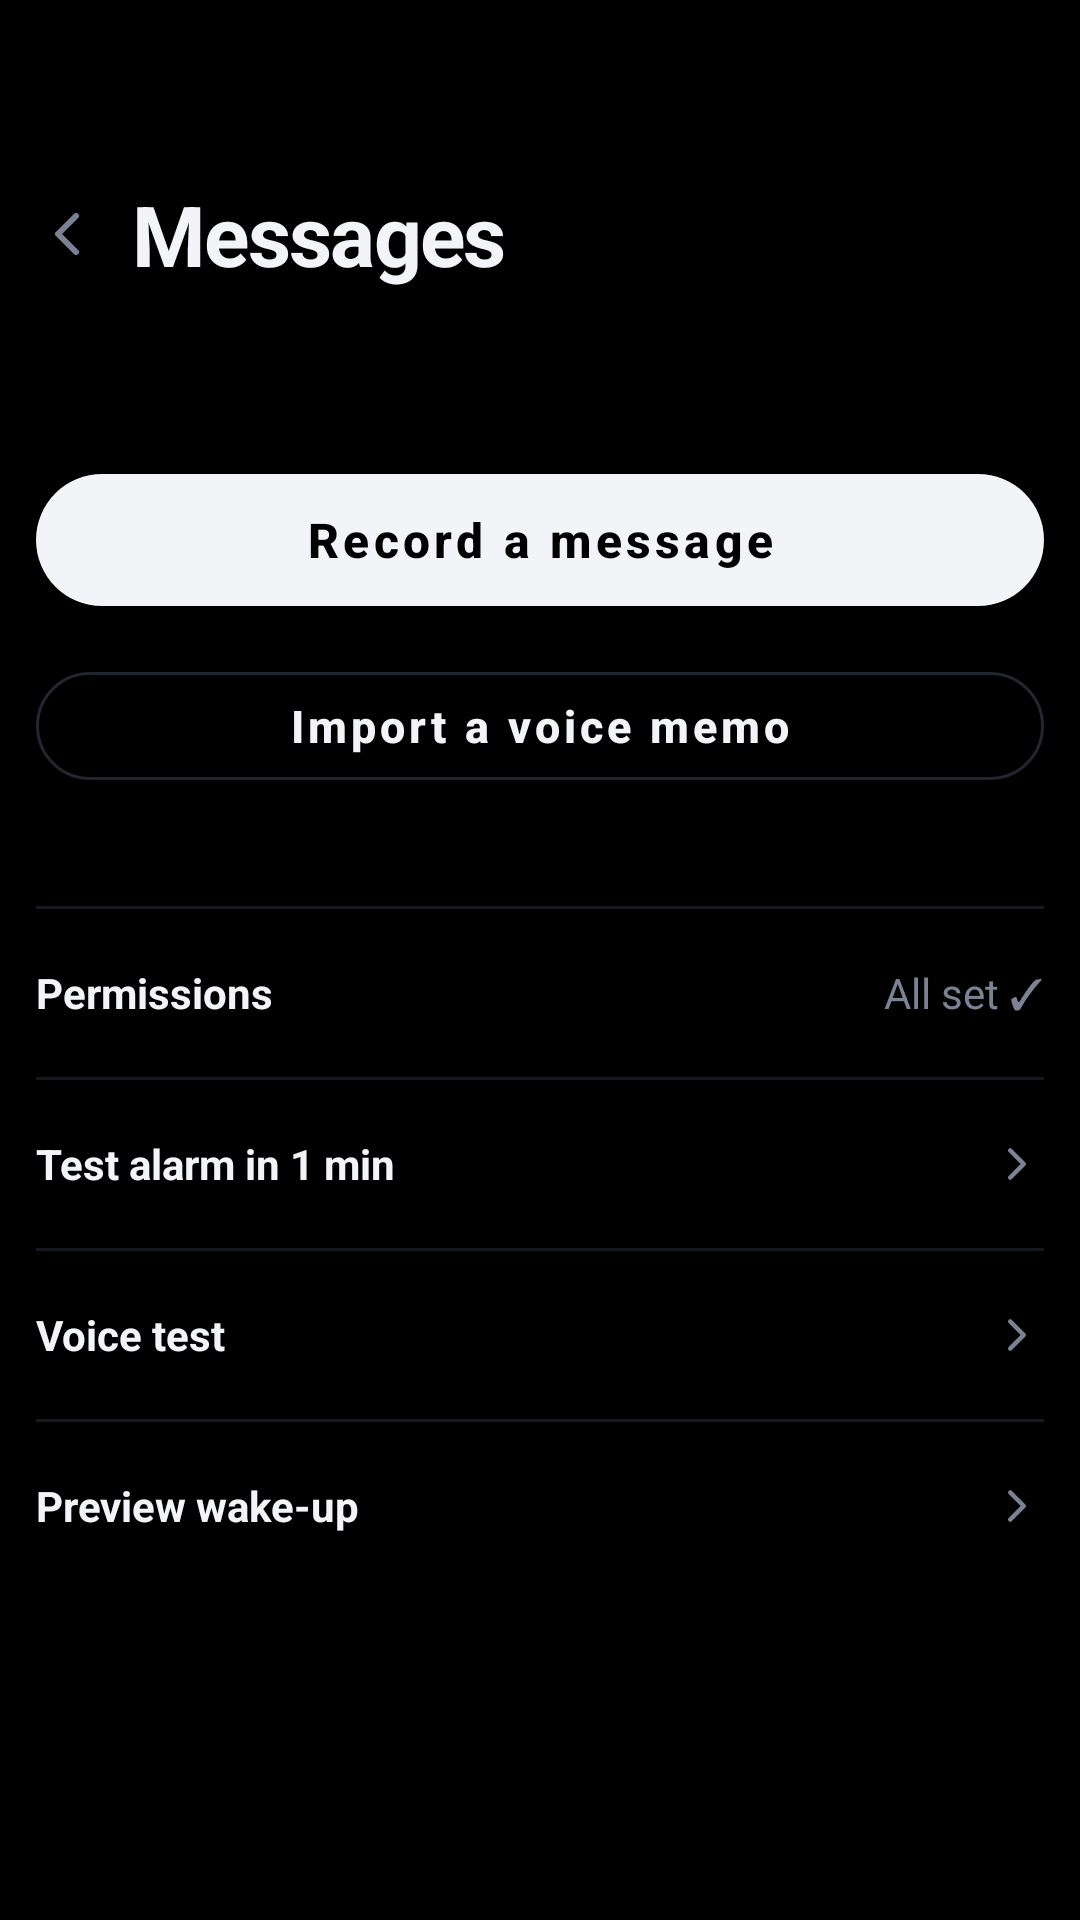

Point at icon controls on the screen. Image size 1080 × 1920, points as [x,y].
chevron: [1017,1164], [1017,1335], [1017,1506]
